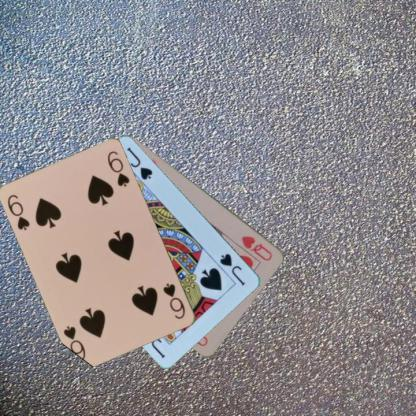6s: (5, 192, 32, 232), (160, 280, 186, 321)
Js: (218, 251, 247, 287)
Qh: (239, 233, 274, 262)
